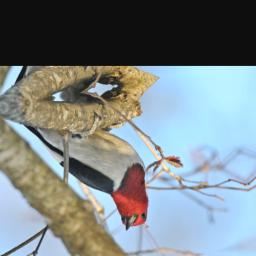Woodpecker: (11, 88, 165, 254)
